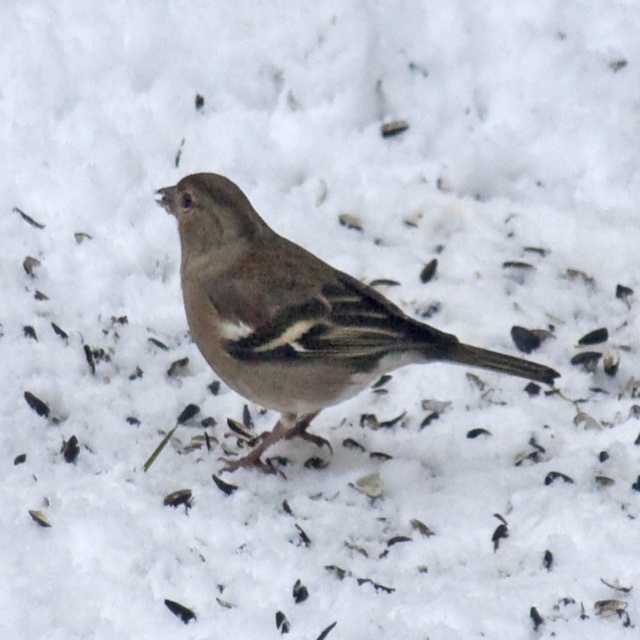Sparrow: (152, 173, 564, 458)
